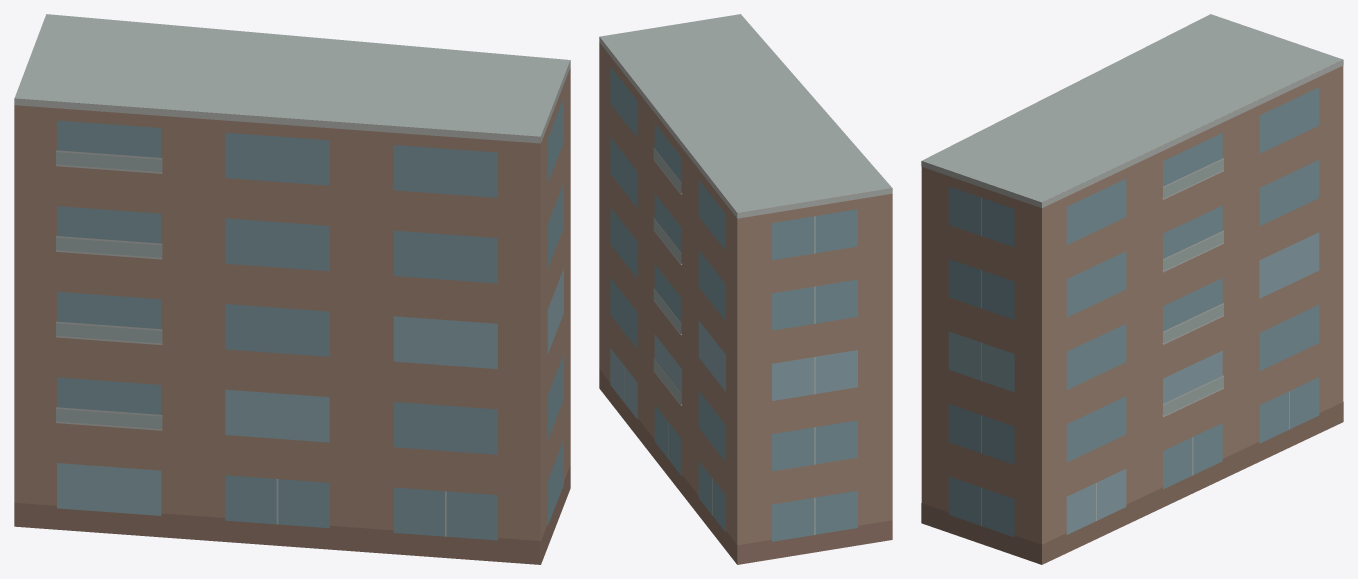
Rendered from survey-upis-33030442.glb.
3 renders of one model, left to right at view 1: azimuth 30°, elevation 25°; view 2: azimuth 150°, elevation 25°; view 3: azimuth 270°, elevation 25°, orthographic. The views are drawn at different scales.
Visible parts, largest first — view 1: survey-upis-33030442.tmp; view 2: survey-upis-33030442.tmp; view 3: survey-upis-33030442.tmp.
Part boxes in pixels (left/top/right/bottom): survey-upis-33030442.tmp: left=14, top=14, right=570, bottom=564; survey-upis-33030442.tmp: left=599, top=14, right=892, bottom=564; survey-upis-33030442.tmp: left=921, top=14, right=1343, bottom=564.
Bounding box in the file's own units: 17.02 × 15.25 × 16.1.
